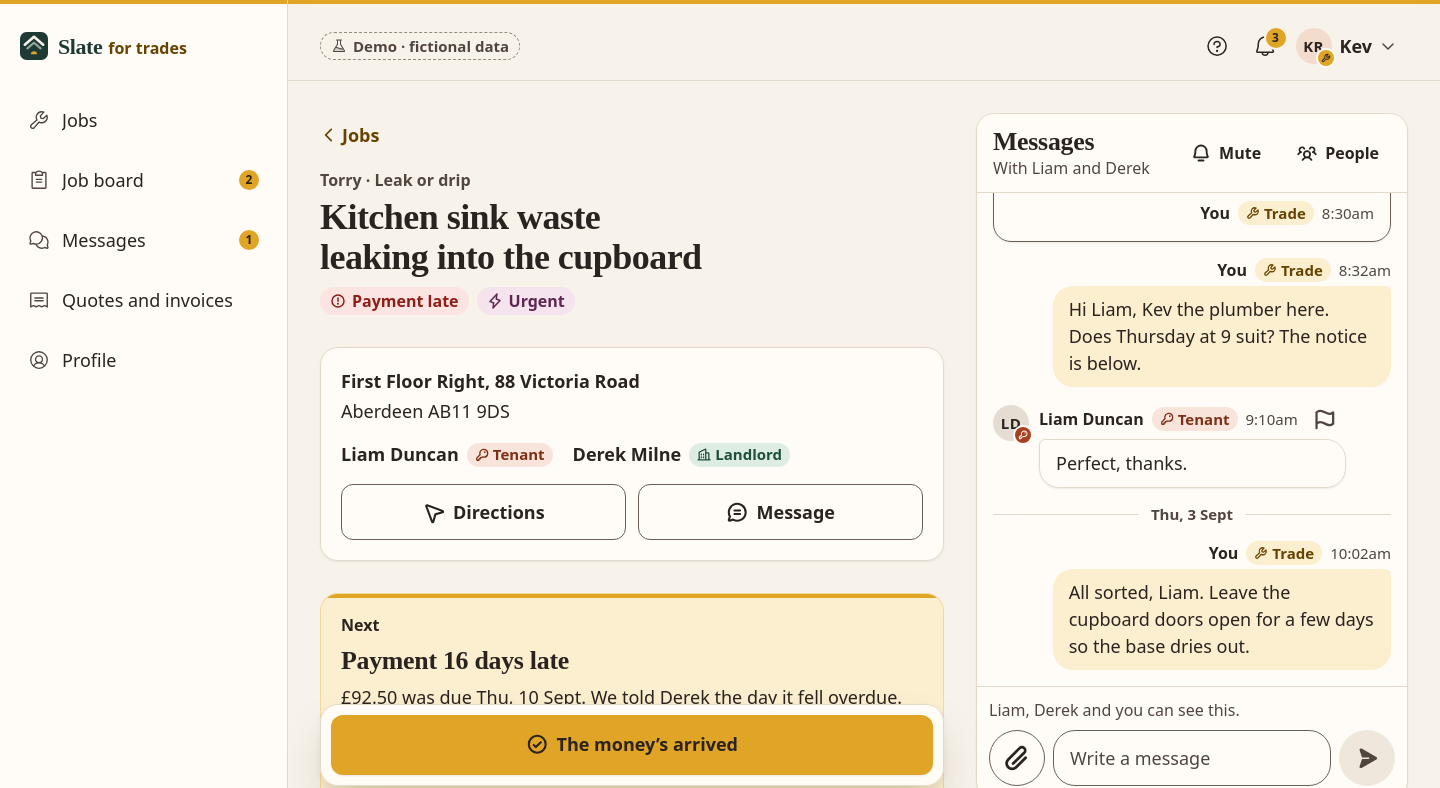
Test: a job, with its chat on the same screen › lets the trade say the money arrived for a late invoice
(page scrolled)
Check: the heading "Payment 16 days late" is shown, box top-left (341, 646), bottom-right (569, 676)
Check: the text "Paid on time on 0 of 3 jobs" is shown, box top-left (381, 736), bottom-right (616, 762)
What coordinates should you click on to do the following:
click the button "The money’s arrived"
I would click on:
 (632, 745)
Its box is top-left (331, 715), bottom-right (933, 775).
(page scrolled)
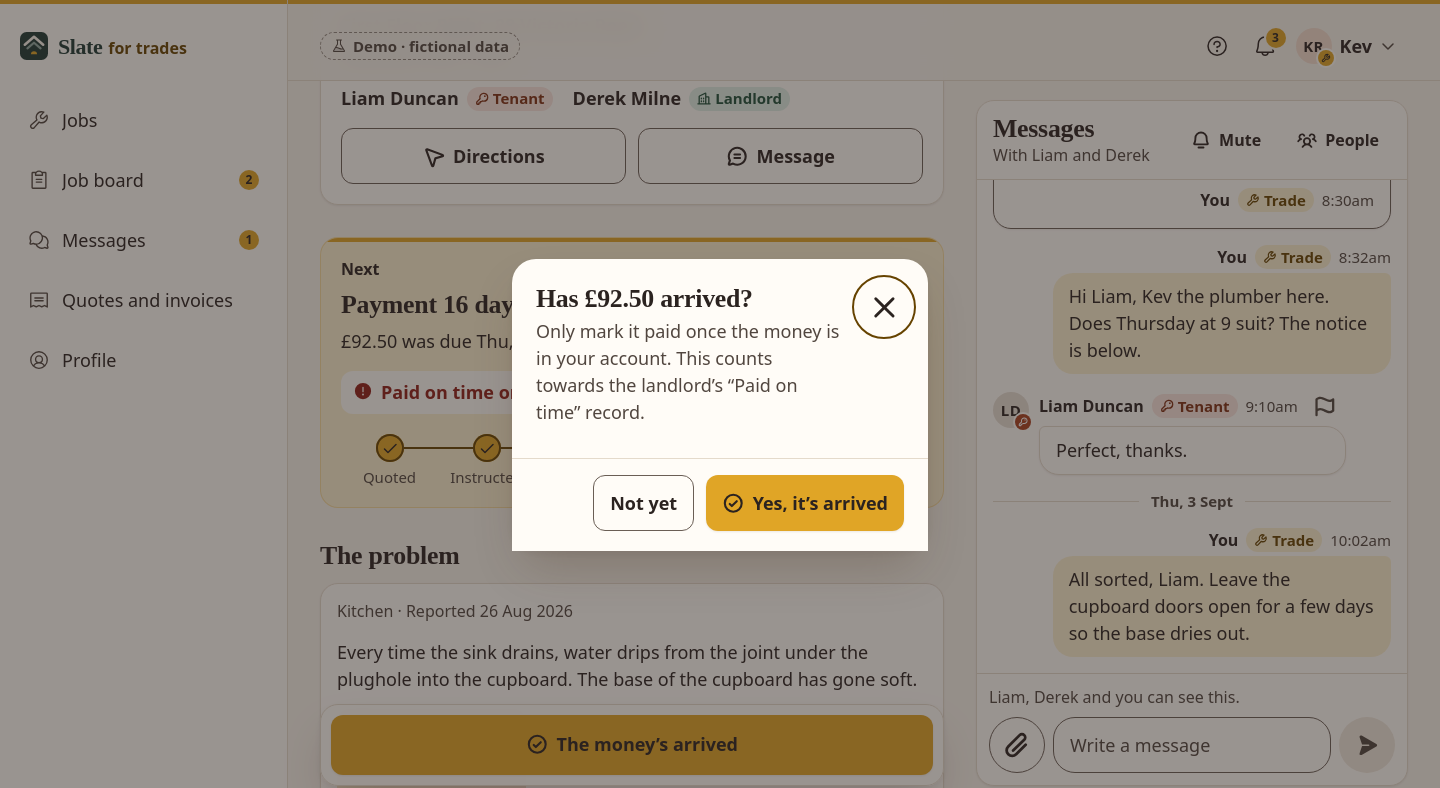
What coordinates should you click on to do the following:
click the button "Yes, it’s arrived"
I would click on:
 (805, 503)
Its box is top-left (706, 475), bottom-right (904, 531).
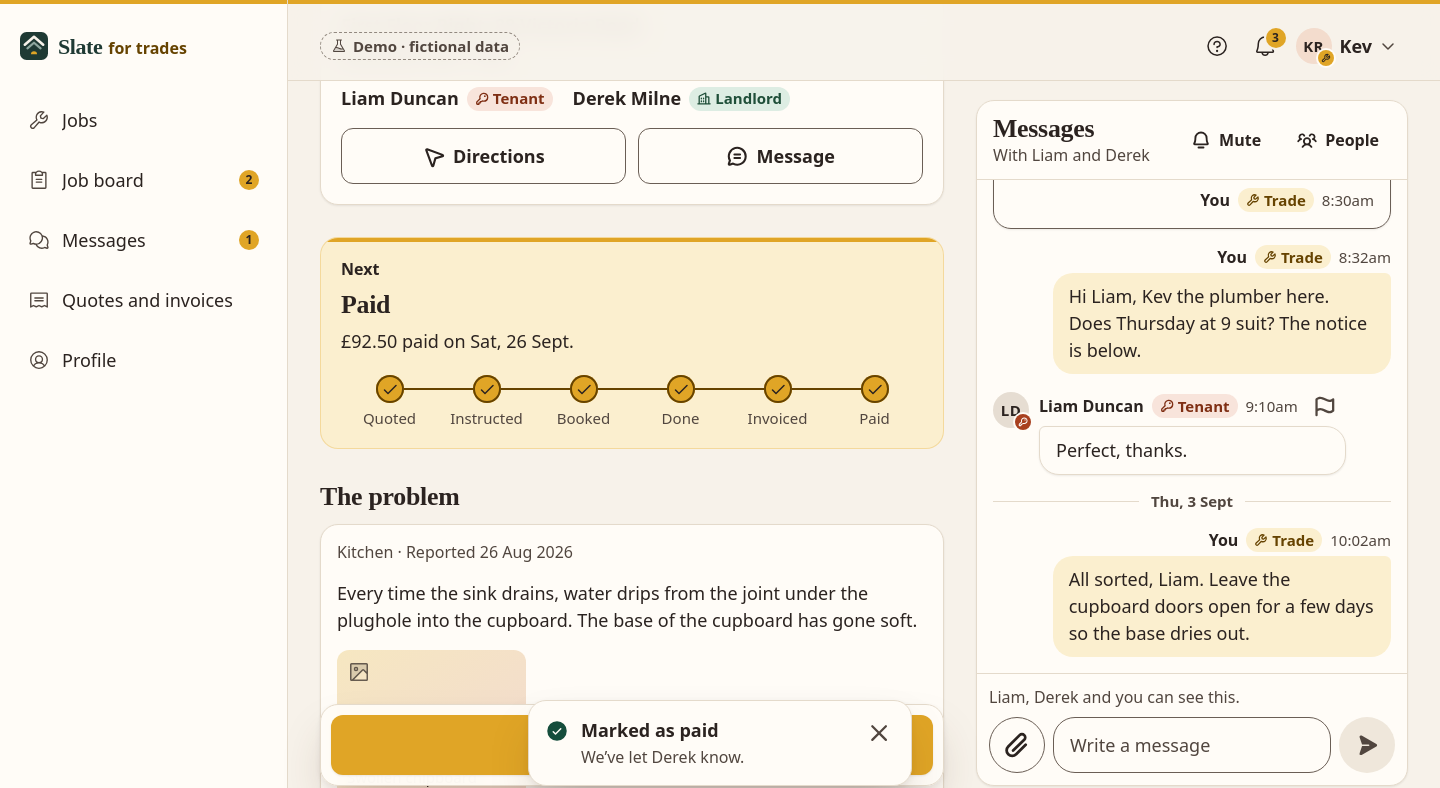
Check: the heading "Paid" is shown, box top-left (341, 290), bottom-right (390, 320)
